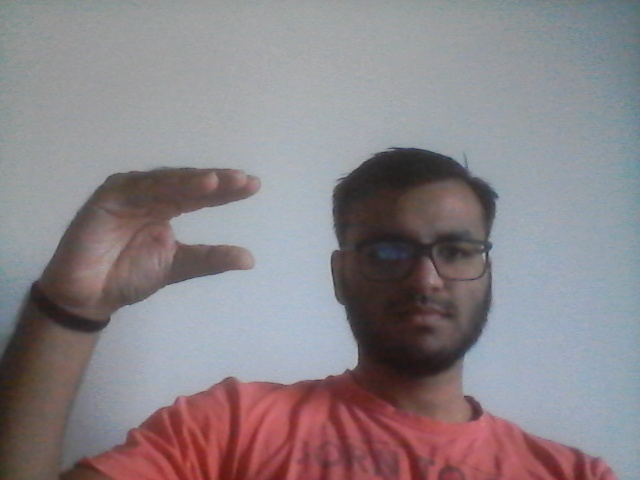No: (45, 161, 273, 319)
